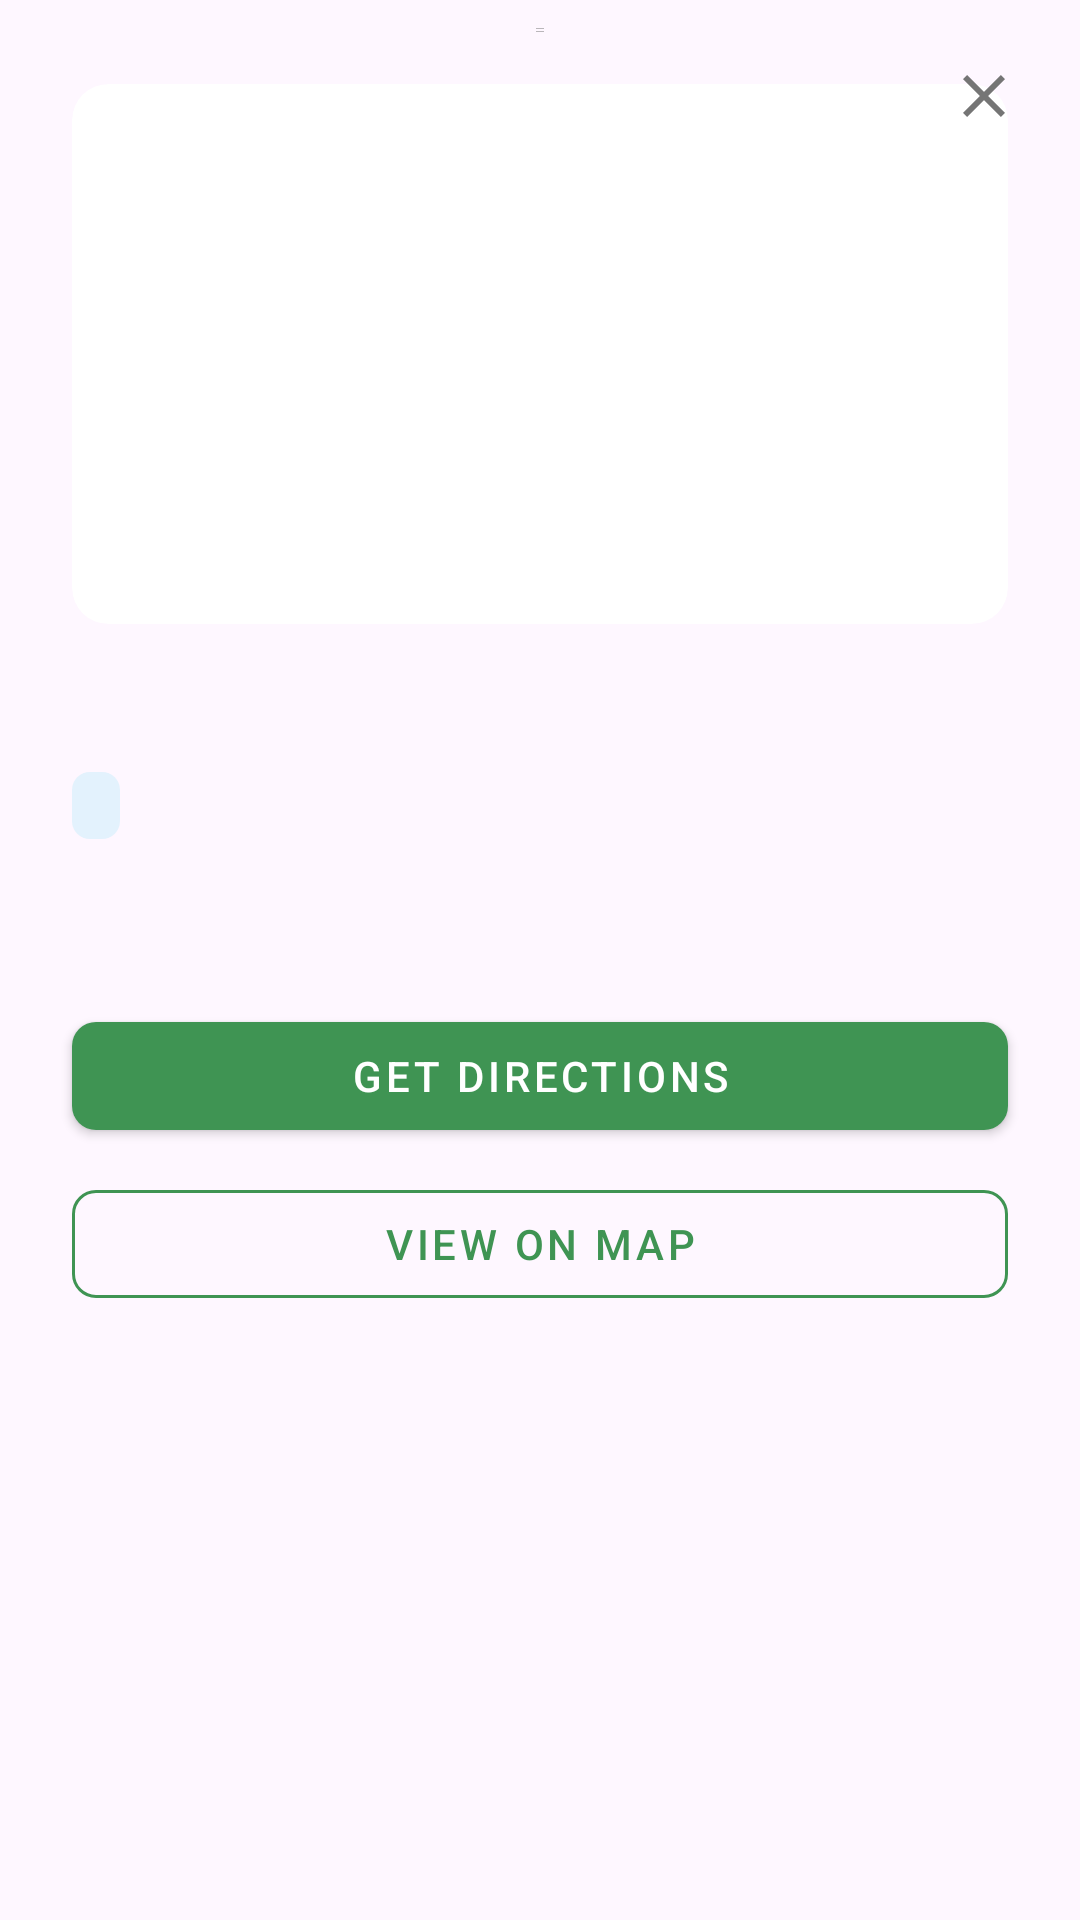

Icons on this 1080px x 1920px Android screen, each with its box as [left=x1, top=y1, right=x2, bottom=y2]:
Close: [left=963, top=75, right=1005, bottom=117]
